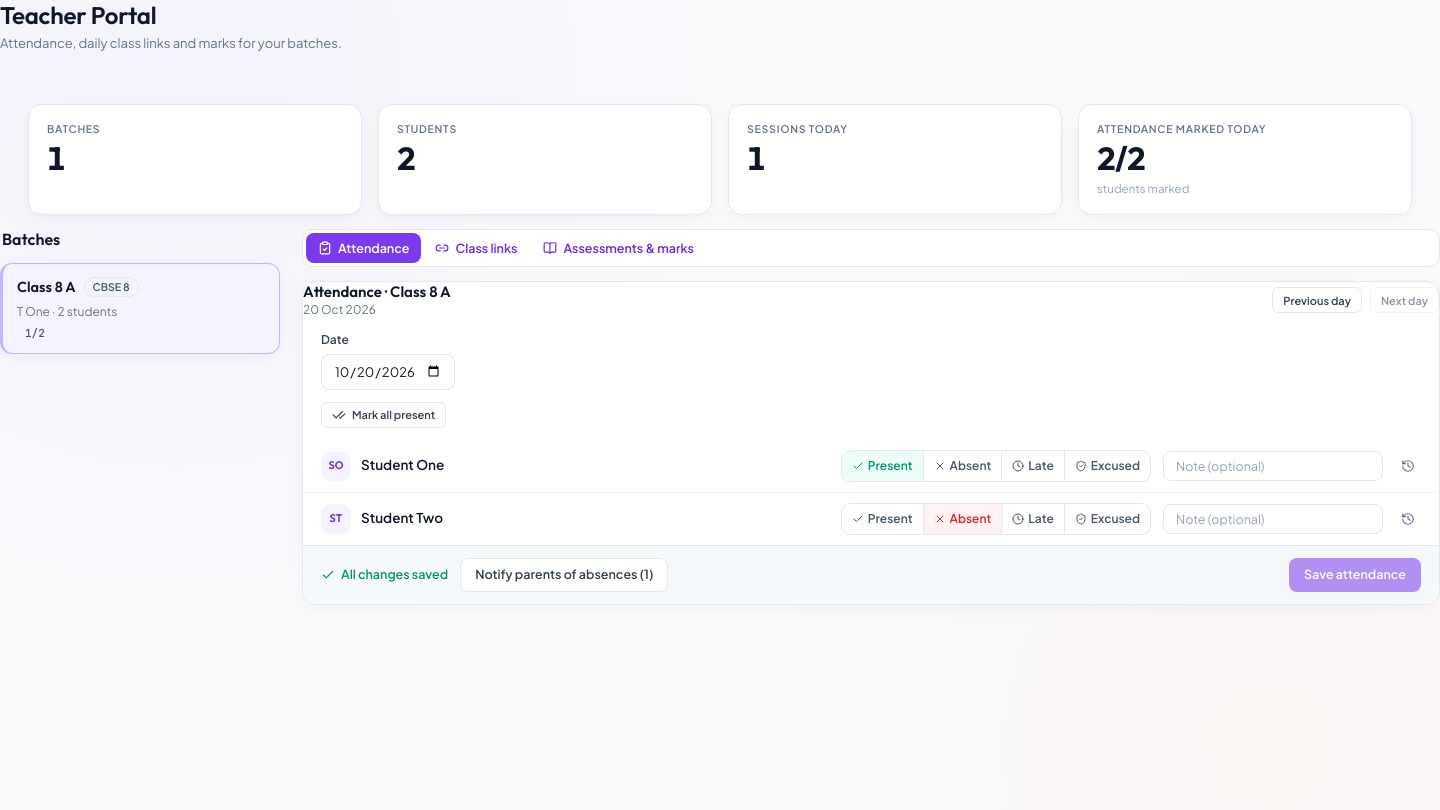
Test: Teacher portal shell › offers to notify parents of absences once attendance is saved, and reports the real result
This screenshot has width=1440, height=810.
Click the button "Notify parents of absences (1)" at (564, 574), box [460,558,668,592]
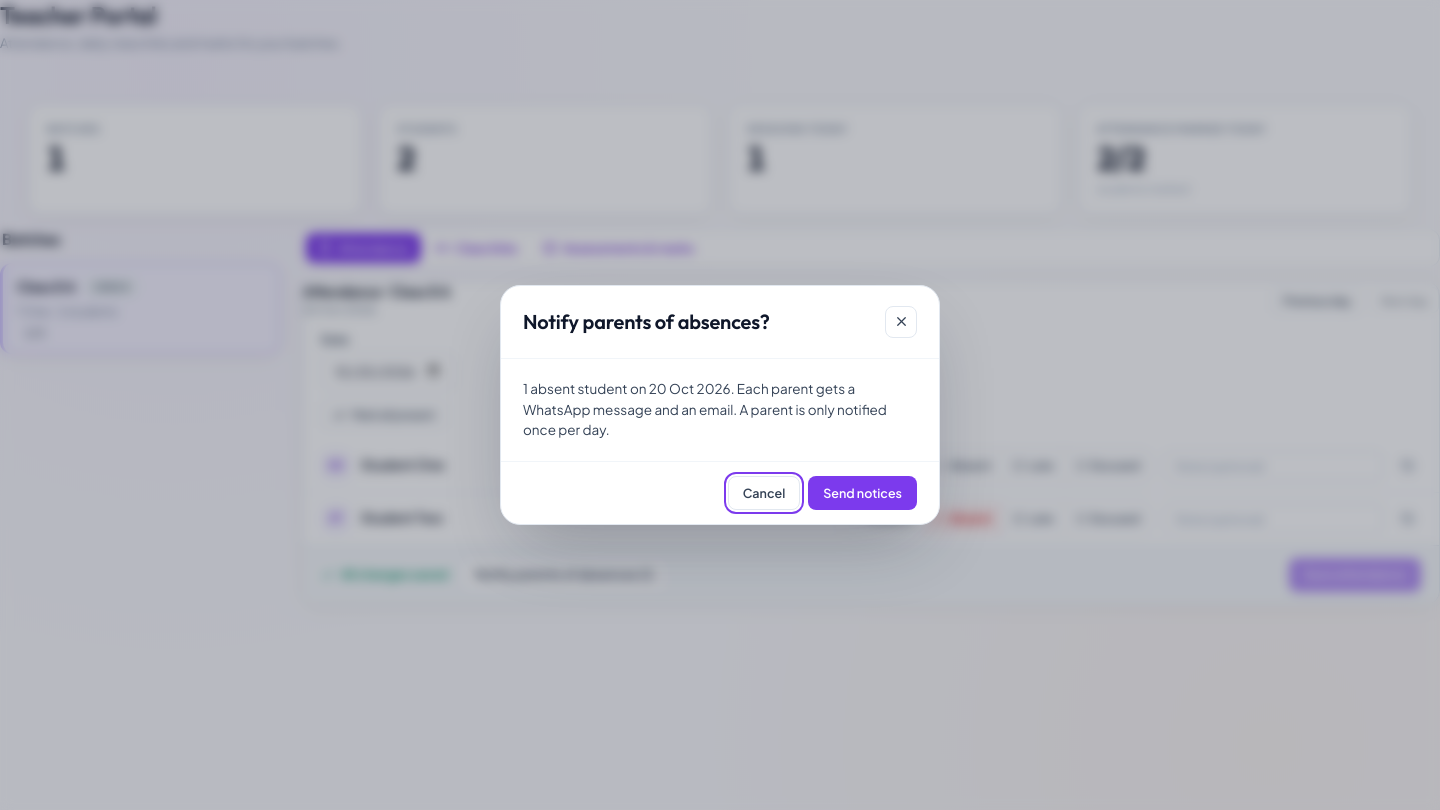
Result: the text "Each parent gets a WhatsApp message and an email" is shown at [523,380,887,438]
Click the button "Send notices" at (863, 493), box [808,476,917,510]
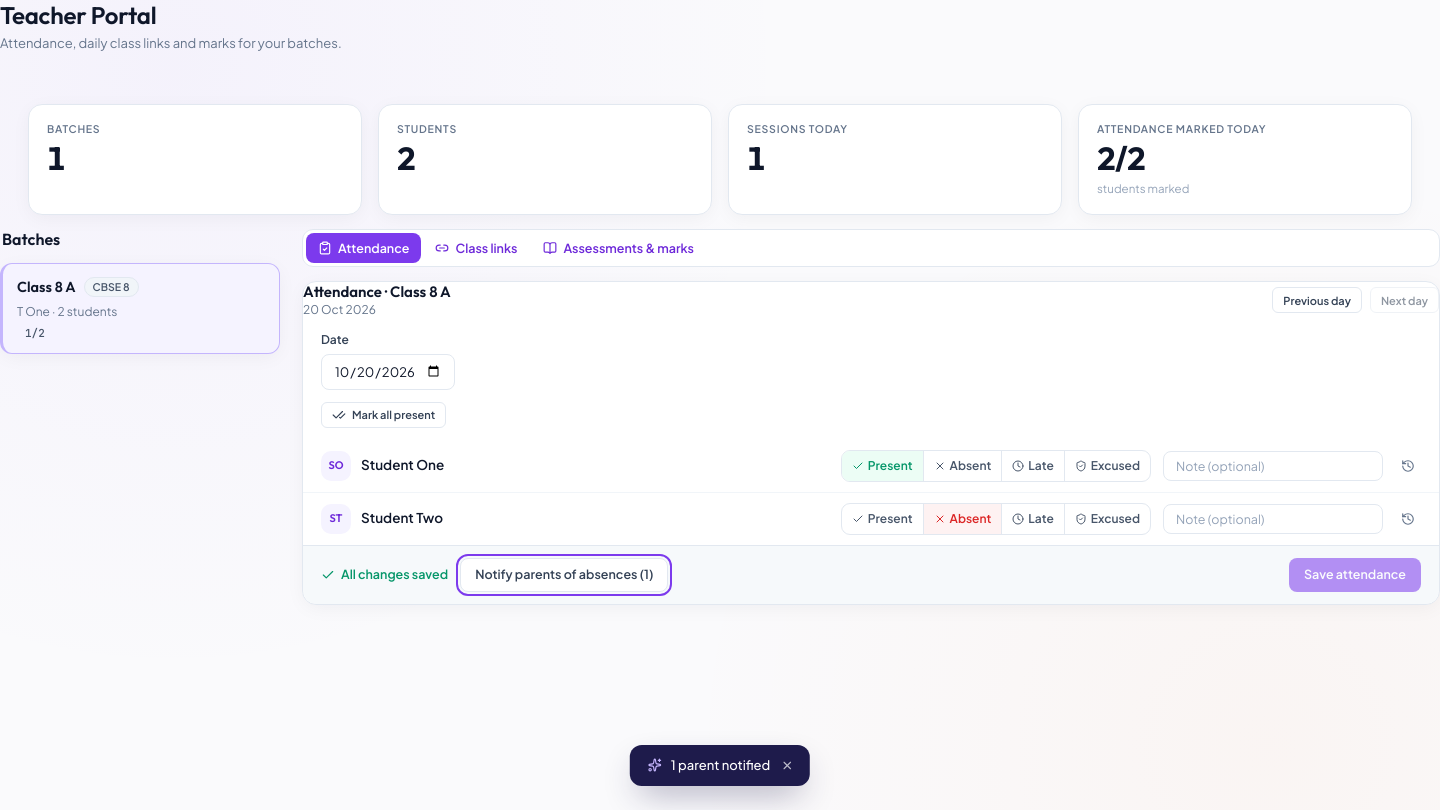
Result: the text "1 parent notified" is shown at [630,744,810,786]
